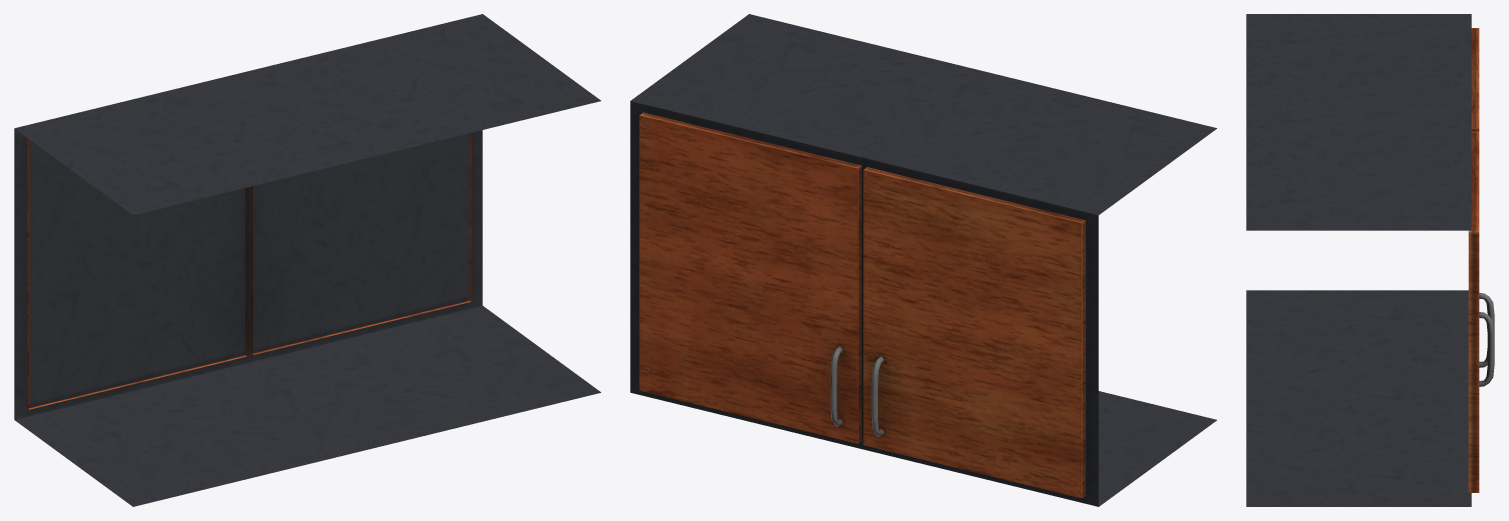
Rendered from BreakroomCabinet.fbx.
3 renders of one model, left to right at view 1: azimuth 30°, elevation 25°; view 2: azimuth 150°, elevation 25°; view 3: azimuth 270°, elevation 25°, orthographic. The views are drawn at different scales.
Visible parts, largest first — view 1: BreakroomCabinet; view 2: BreakroomCabinet; view 3: BreakroomCabinet.
Part boxes in pixels (box(x1,y1,x2,y2)): BreakroomCabinet: box(14, 14, 600, 506); BreakroomCabinet: box(630, 14, 1216, 506); BreakroomCabinet: box(1246, 14, 1494, 506).
Size of the model in its own units: 73.76 by 90.66 by 152.
